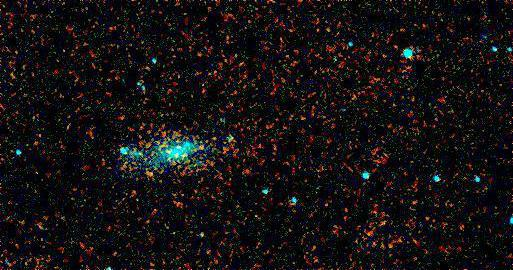star: (140, 160, 170, 190)
